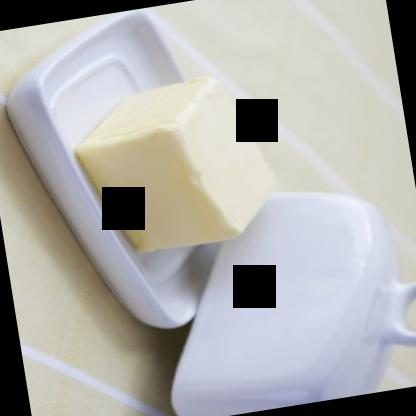butter: (74, 72, 286, 264)
